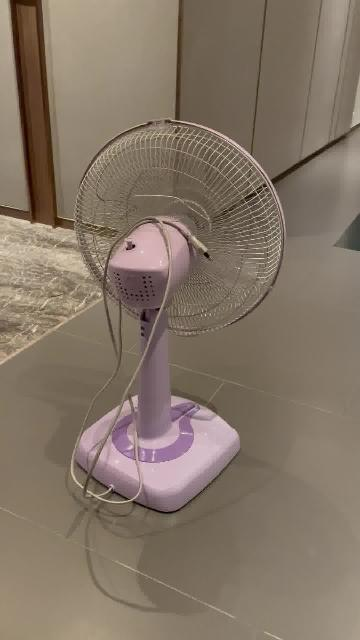Fan: (74, 120, 286, 516)
